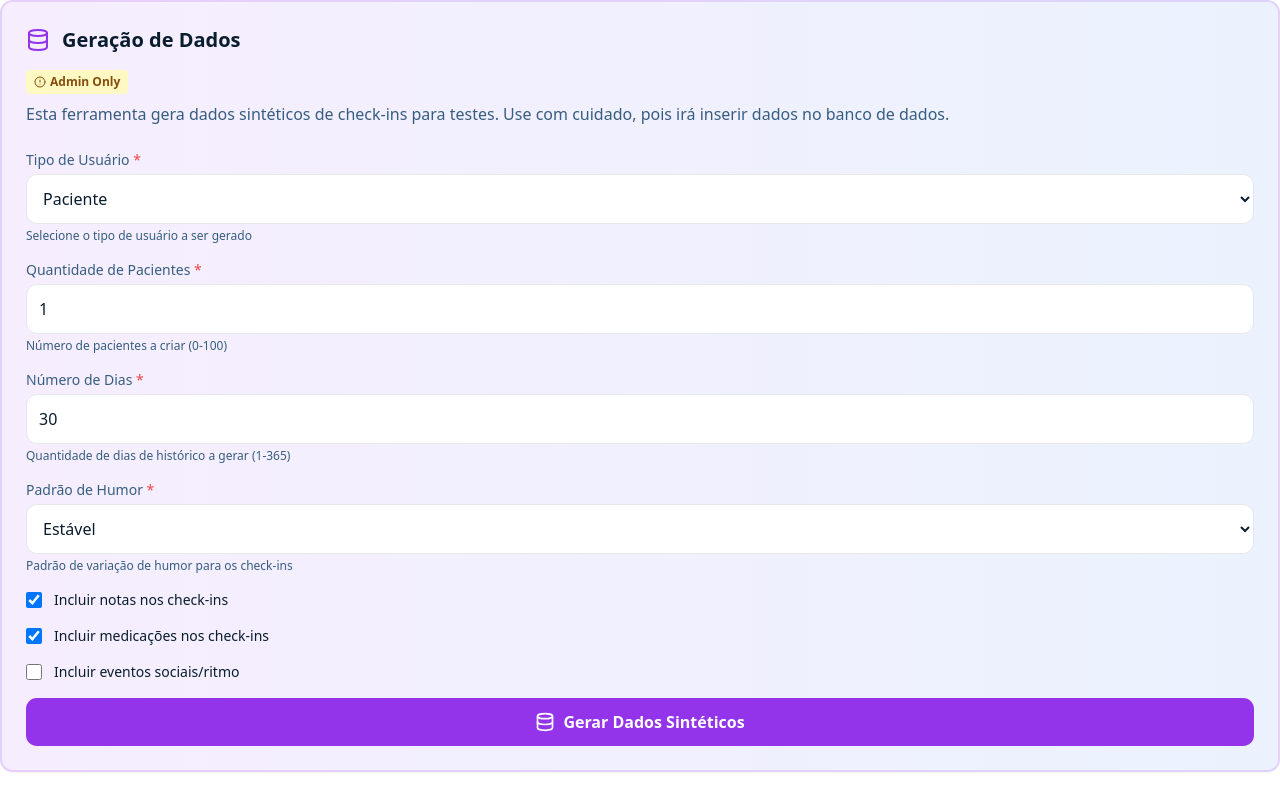
Test case: DataGenerator › should show/hide therapist count based on user type
Expected: the field labelled "Quantidade de Terapeutas" is not shown
// Change to "both"
Select "Ambos" in the dropdown labelled "Tipo de Usuário *" at (640, 199), box 26,174 -> 1254,224
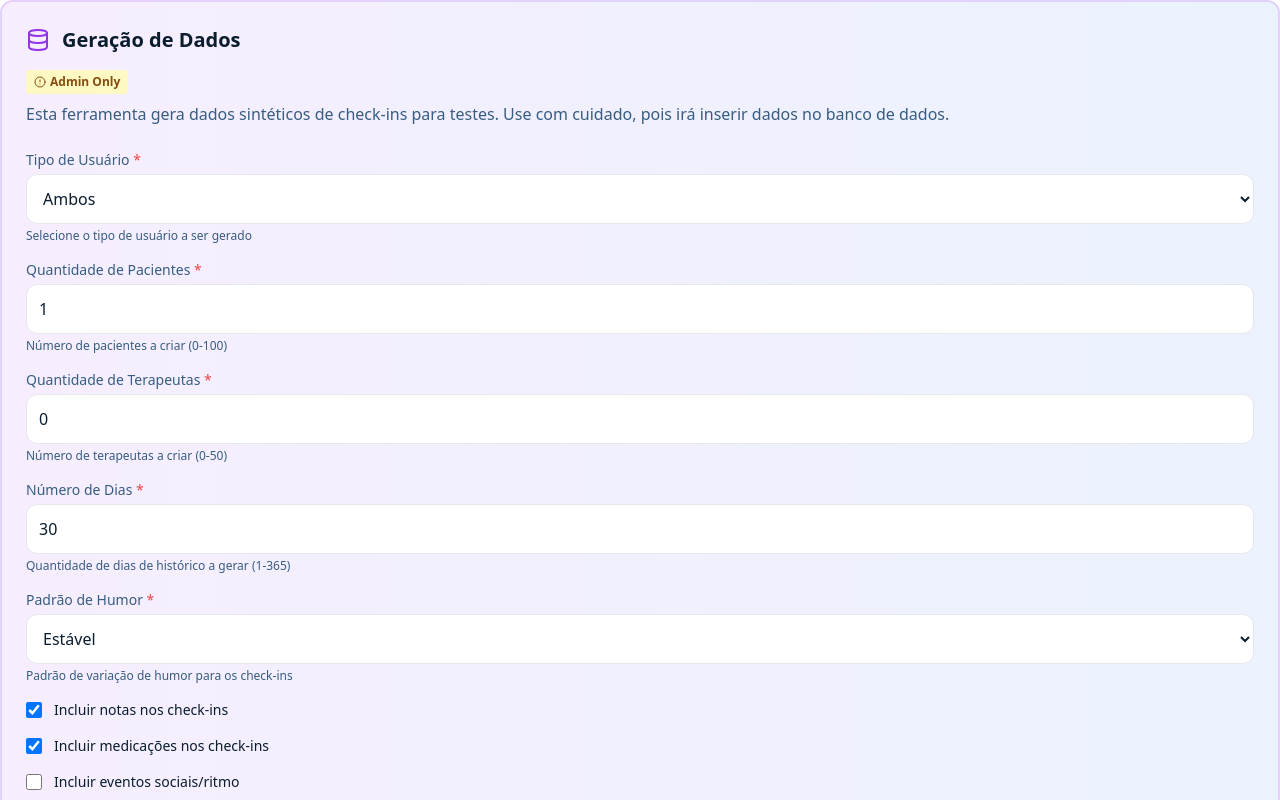
Expected: the number field labelled "Quantidade de Terapeutas *" is shown, 26,394 -> 1254,444
